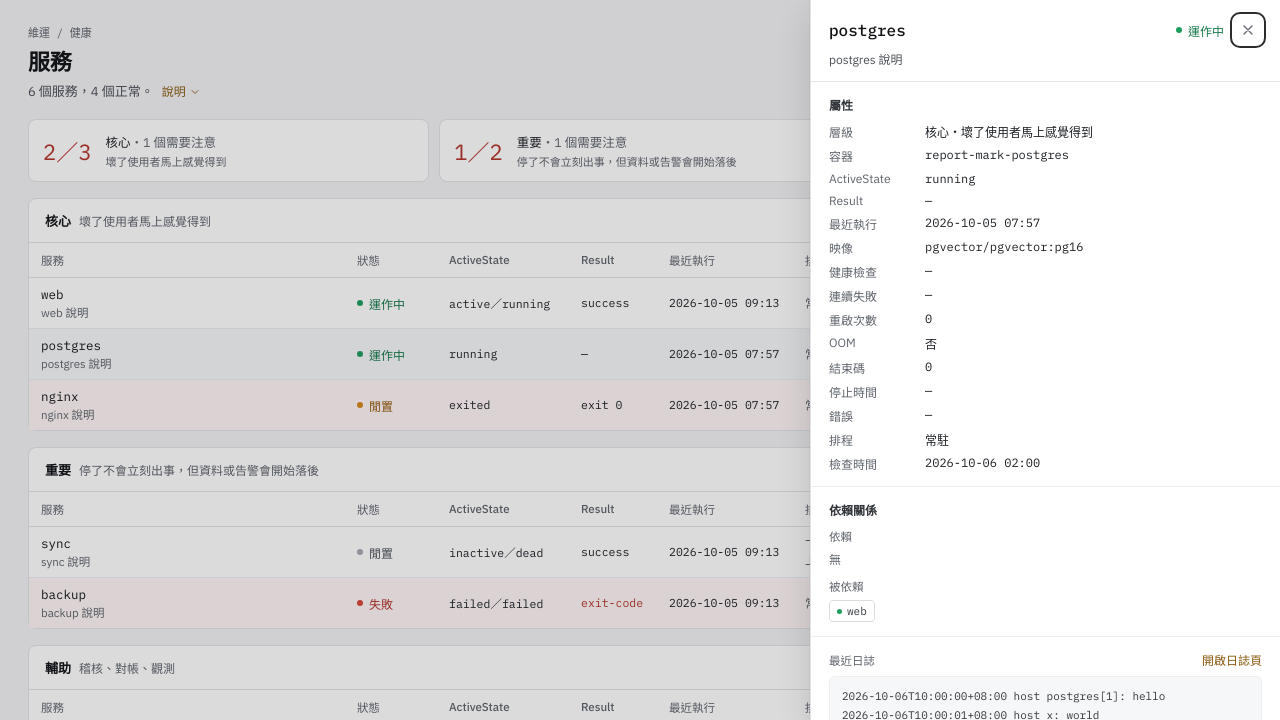
Test case: 服務詳情抽屜（?service=）：屬性、依賴與被依賴、最近日誌，連到日誌頁；關閉後網址拿掉參數
The width and height of the screenshot is (1280, 720).
expect the text "pgvector/pgvector:pg16" is shown: met, box x1=925 y1=239 x2=1083 y2=254
expect the text "report-mark-postgres" is shown: met, box x1=925 y1=147 x2=1069 y2=162
Click the button named "關閉" at (1248, 30), box x1=1234 y1=16 x2=1262 y2=44
(page scrolled)
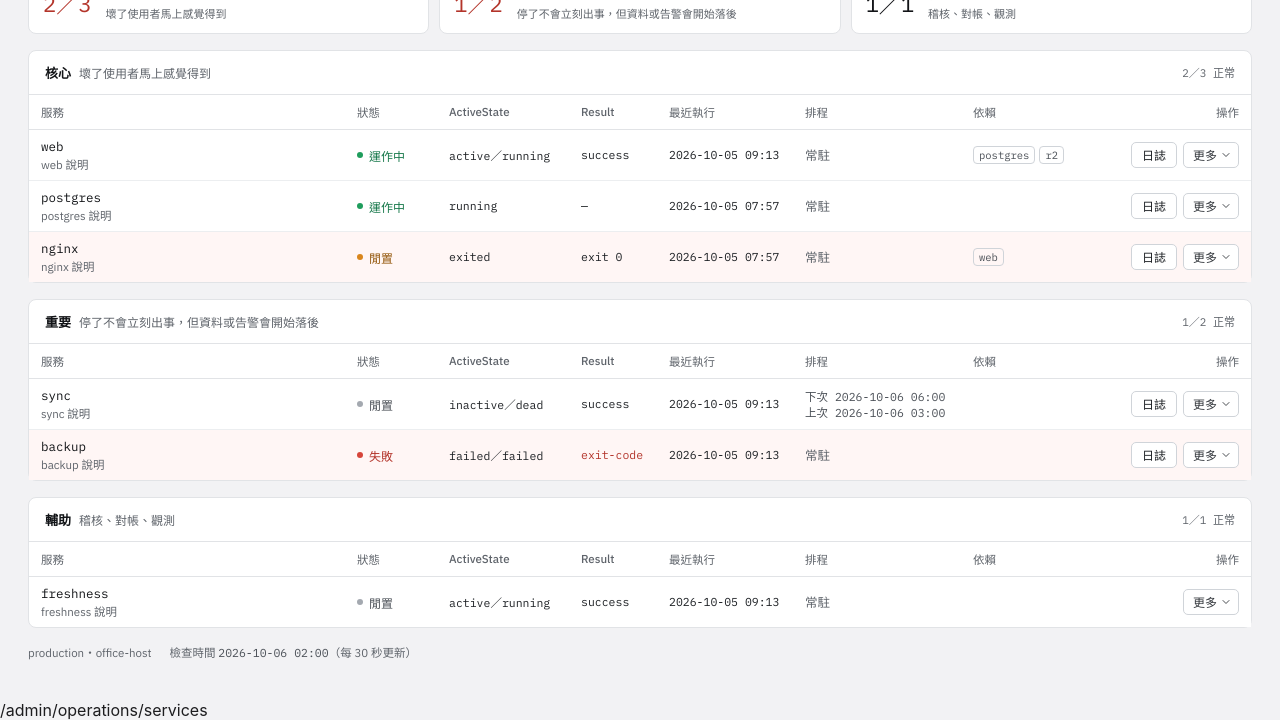
expect the dialog is gone: met
expect the text with test id "loc" shows "services": met, box x1=0 y1=700 x2=208 y2=719
